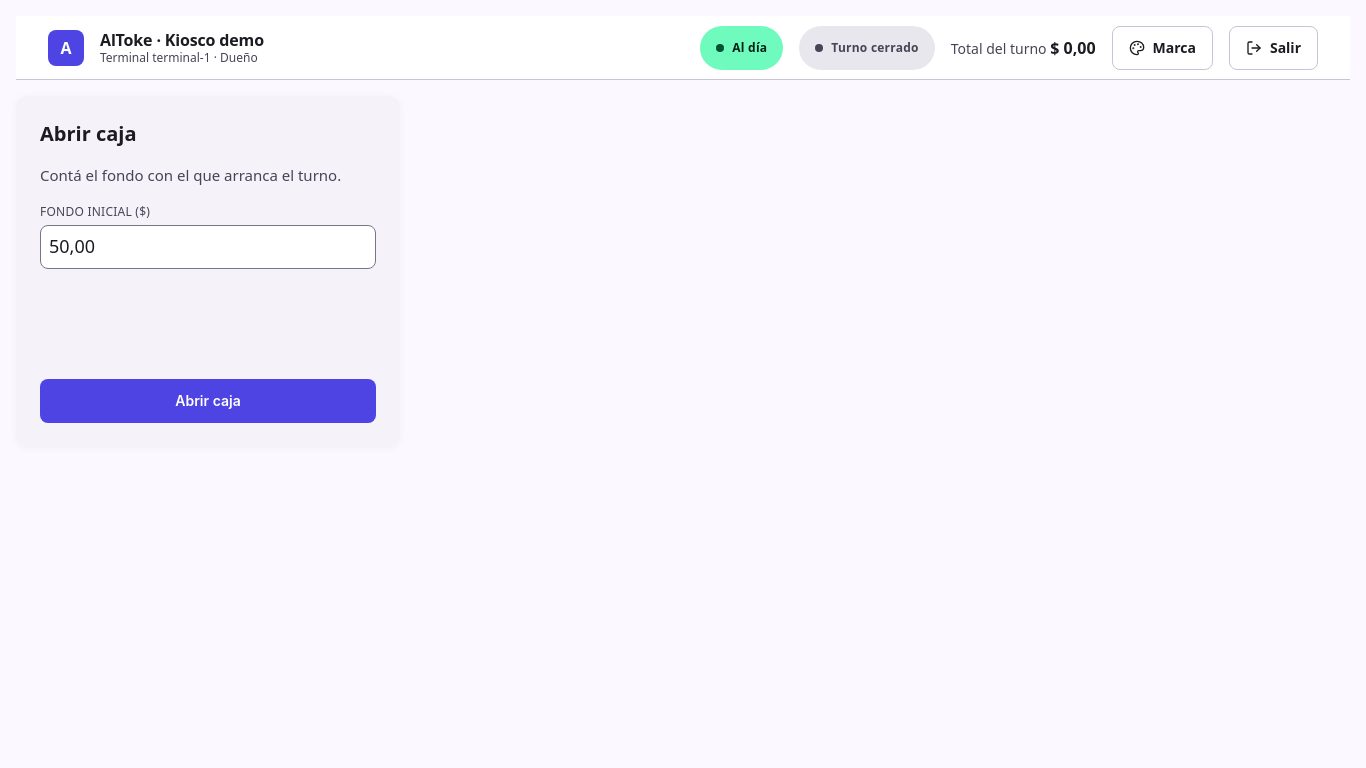
Test: POS — cerrar la caja › muestra el arqueo del cajón y cierra el turno
Click the button "Abrir caja".
click(208, 400)  # box left=40, top=378, right=376, bottom=422
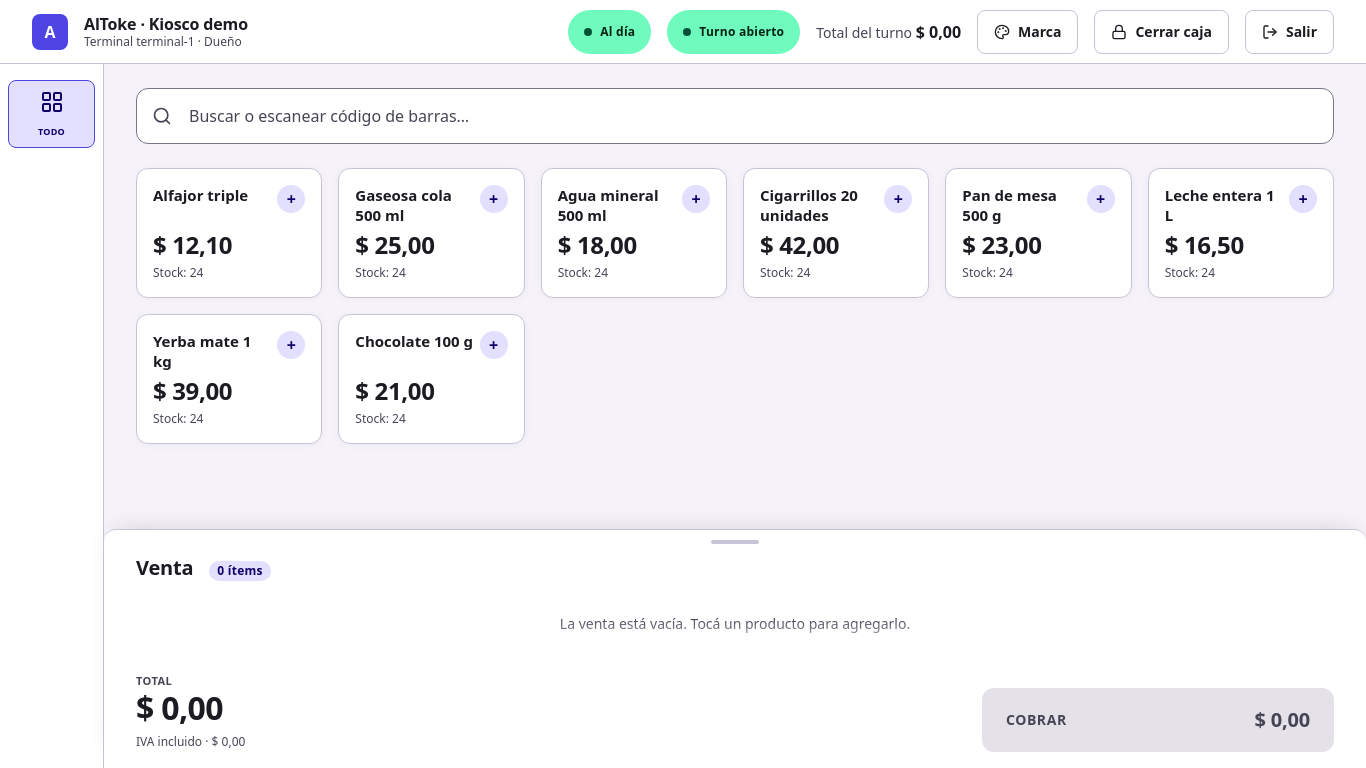
Now the text "Turno abierto" is shown, box left=667, top=10, right=800, bottom=54
Click the button "Cerrar caja".
click(1162, 32)  # box left=1094, top=10, right=1229, bottom=54
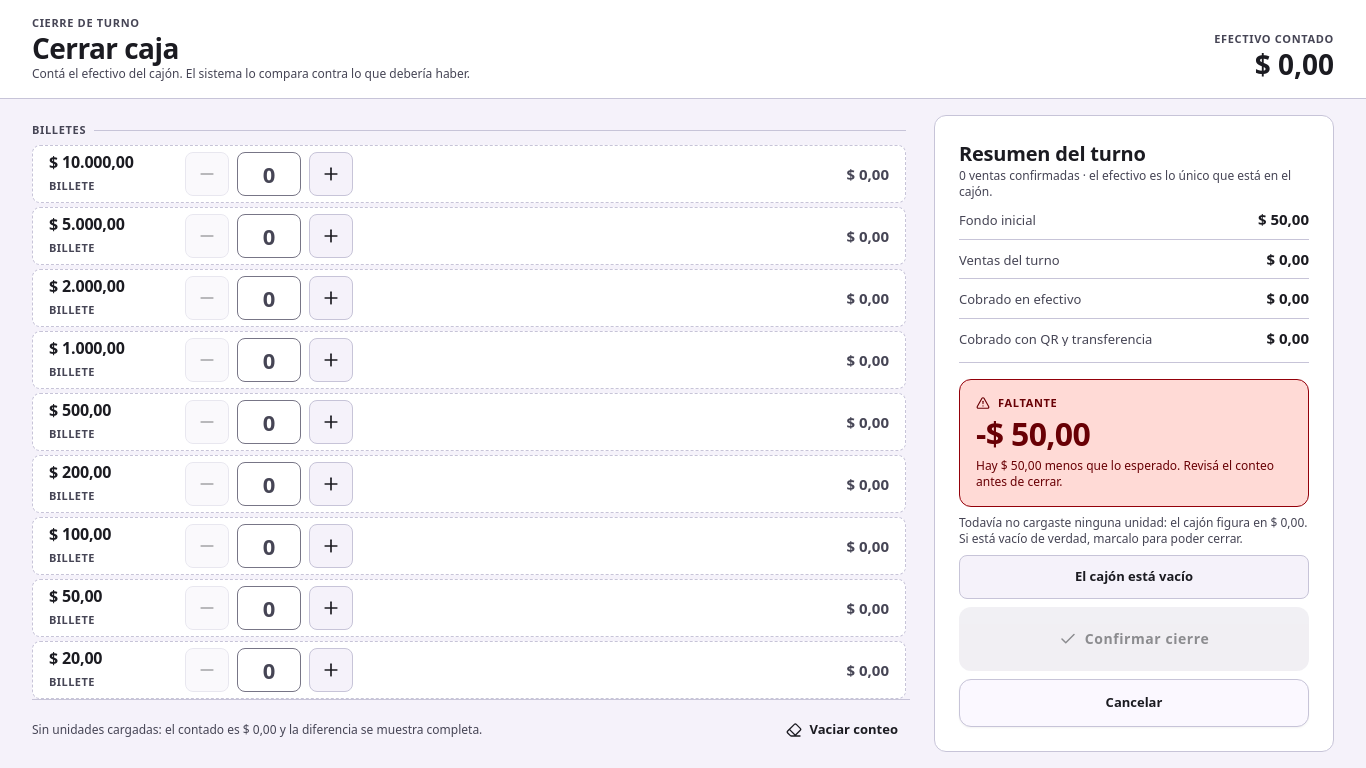
Replace the text in the number field named "Cantidad de 5000 centavos" with "1" at (269, 608), box left=237, top=586, right=301, bottom=630
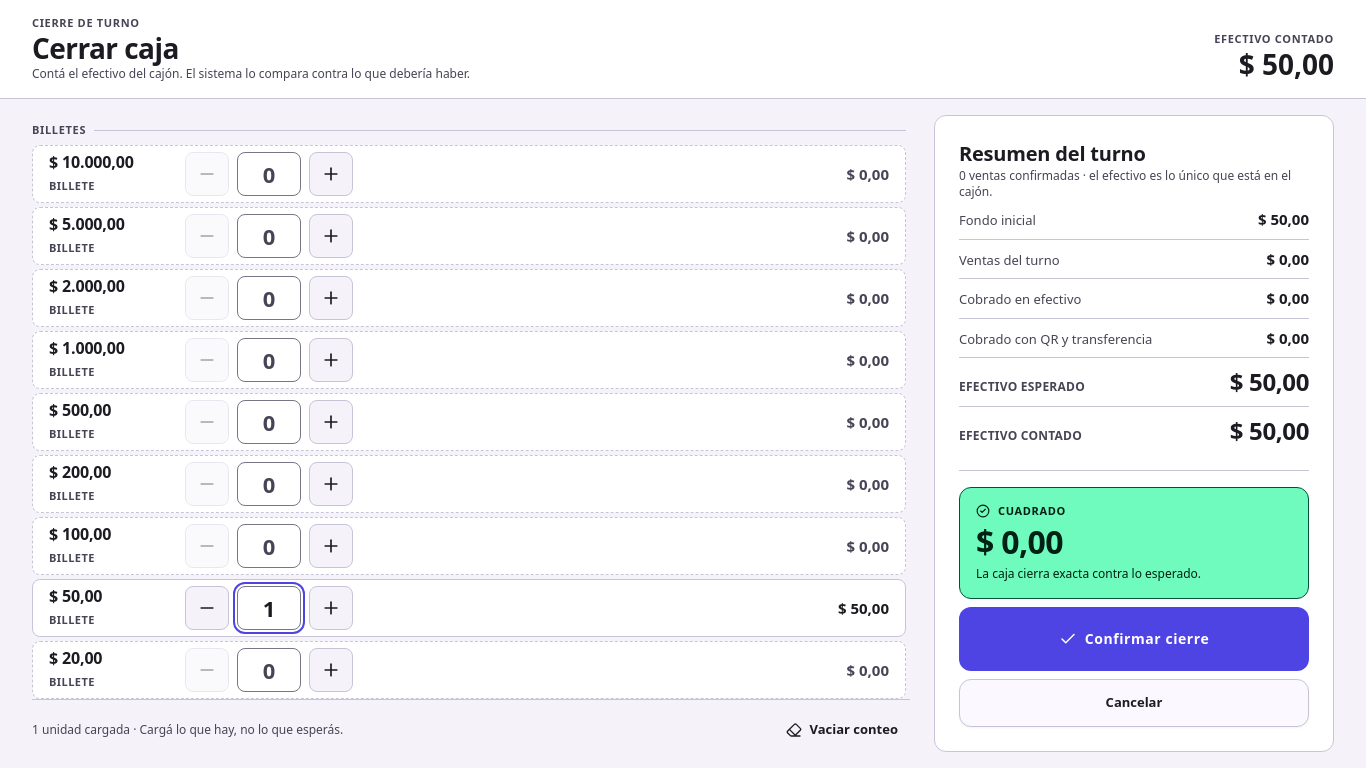
Click the button "Confirmar cierre".
click(1134, 639)  # box left=959, top=607, right=1309, bottom=671
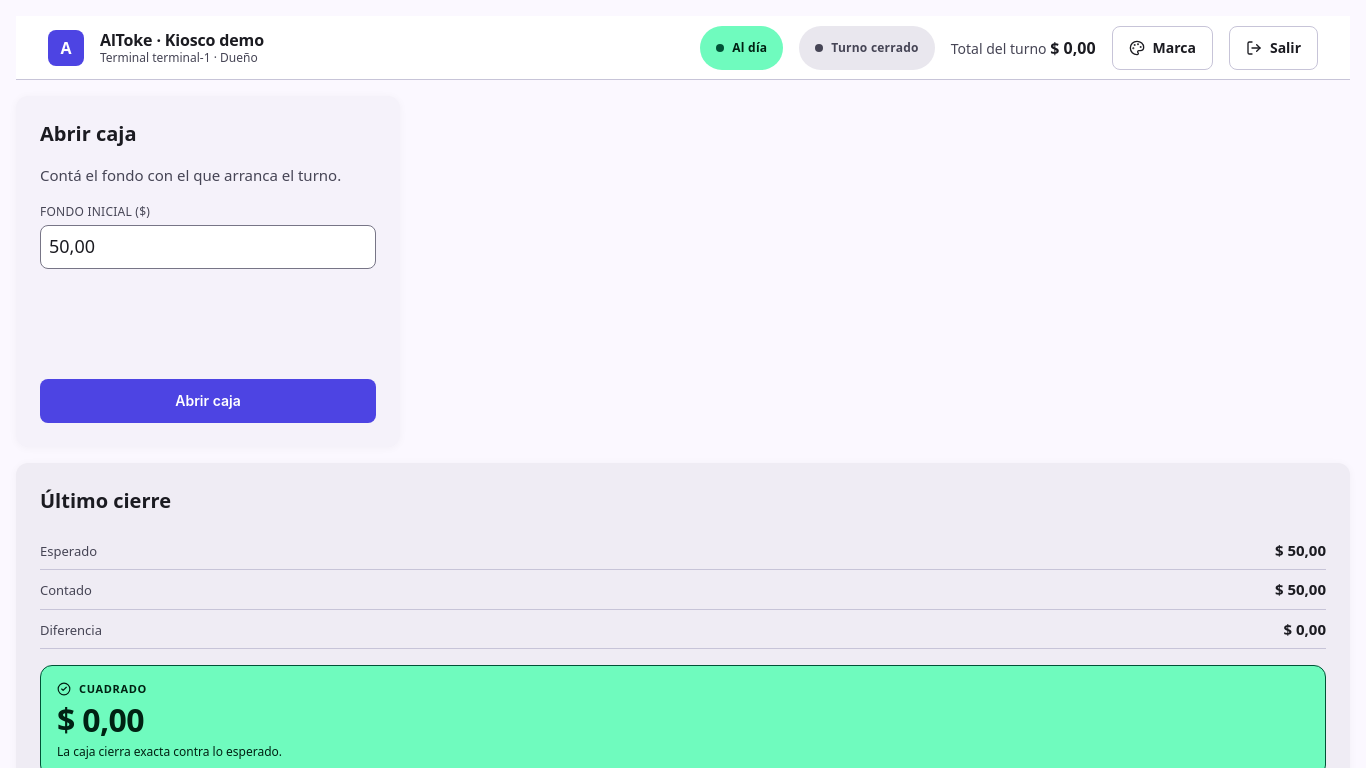
Now the text "Turno cerrado" is shown, box left=799, top=26, right=935, bottom=70
Now the element "Último cierre" shows "cuadrado", box left=79, top=681, right=147, bottom=696
Now the button "Abrir caja" is shown, box left=40, top=378, right=376, bottom=422
